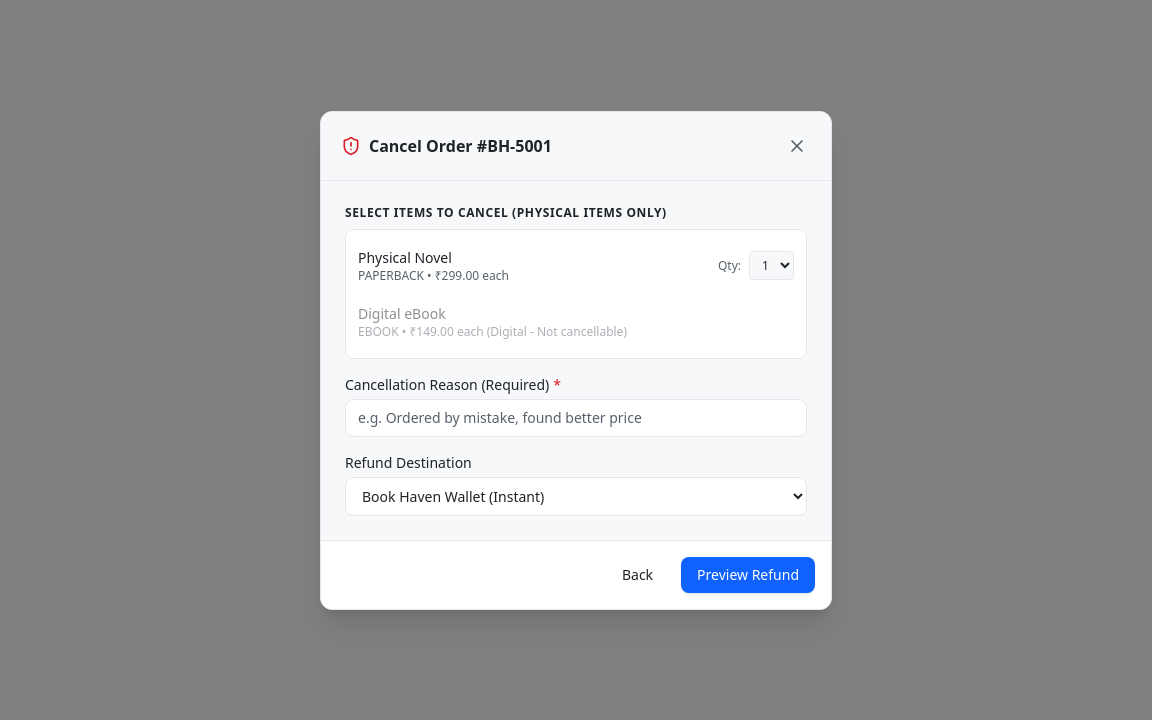
CancelOrderModalTest › reasonRequired: shows error when cancellation reason is missing on preview
Click the button "Preview Refund": (748, 574) x1=681 y1=556 x2=815 y2=592
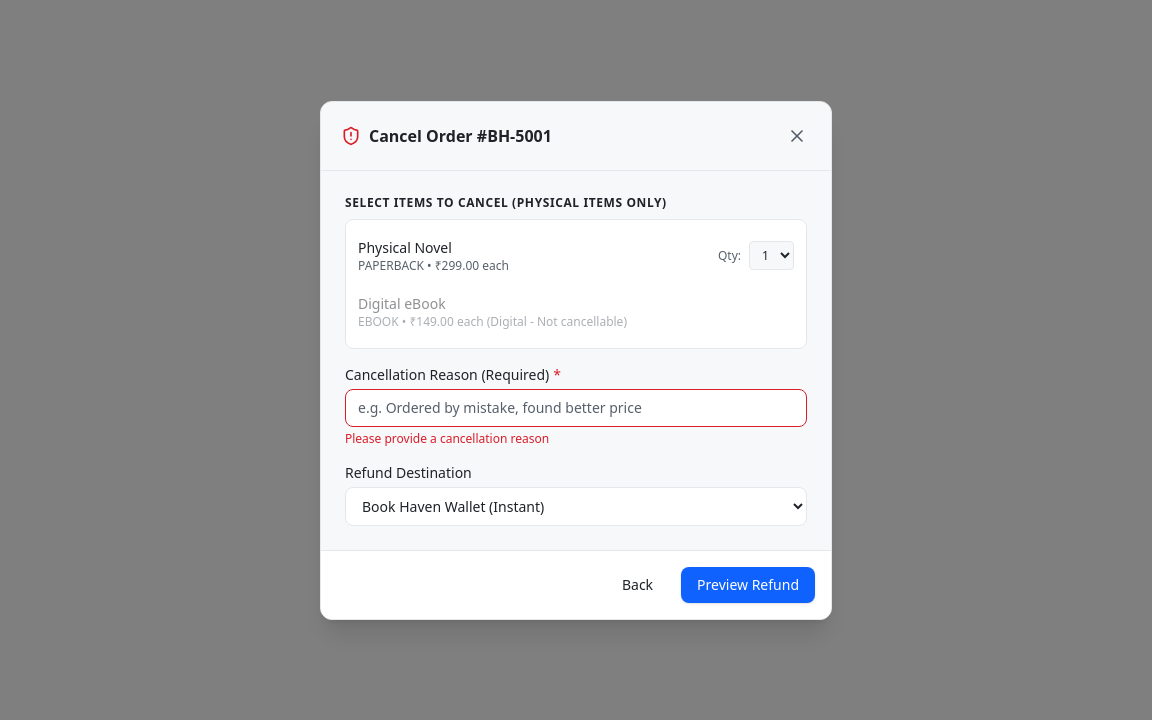
Expected: the text "Please provide a cancellation reason" is shown, x1=345 y1=430 x2=549 y2=446
